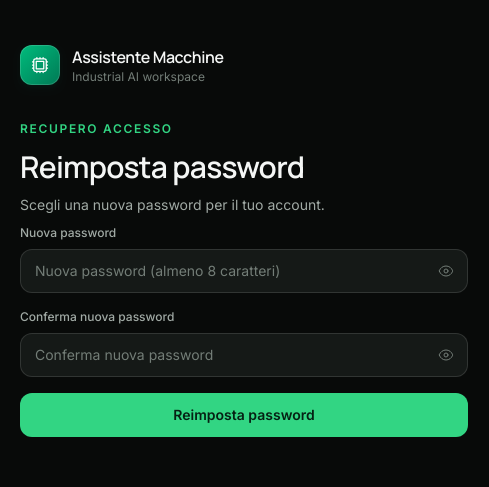
Test: pagina di reset password › mostra un errore se le due password non coincidono
The width and height of the screenshot is (489, 487).
Type "BrandNewPass456" into the password field with placeholder "Nuova password (almeno 8 caratteri)" at (244, 271), box [20,249,468,293]
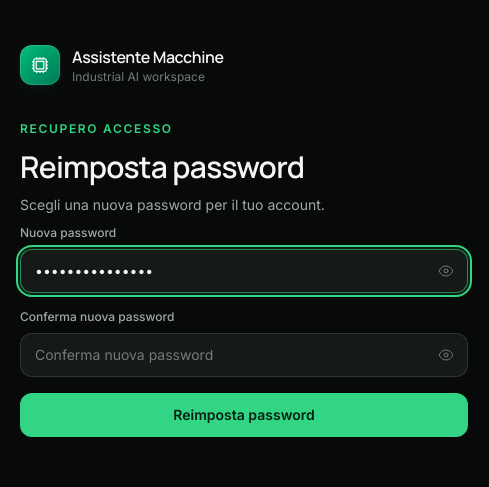
Type "Different123" into the password field with placeholder "Conferma nuova password" at (244, 355), box [20,333,468,377]
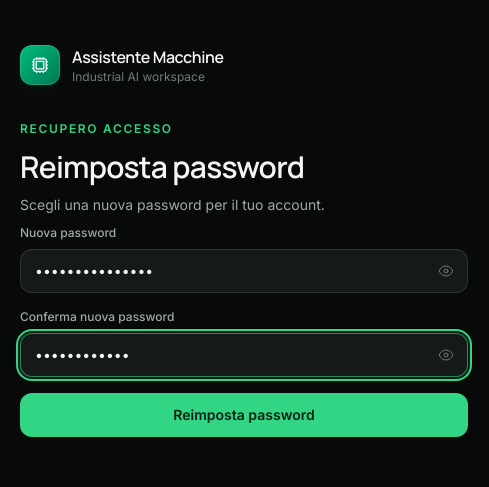
Click the button "Reimposta password" at (244, 415), box [20,393,468,437]
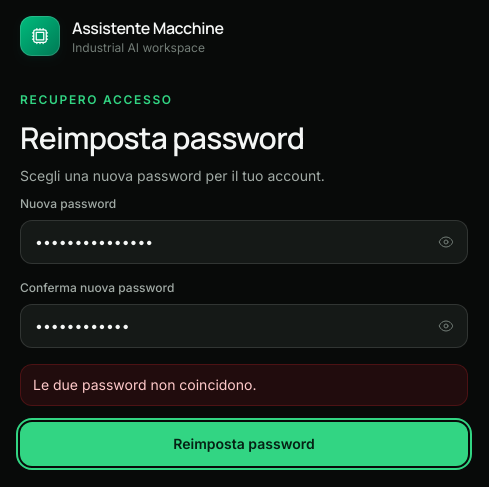
expect the text "Le due password non coincidono." is shown: met, box [20,364,468,406]
